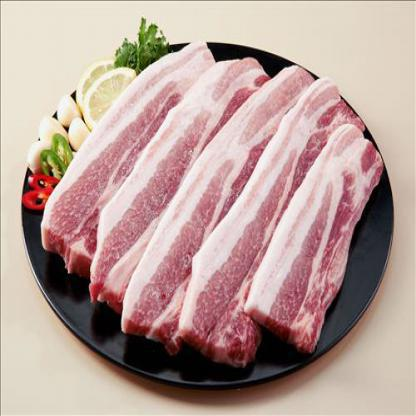pork: (82, 58, 378, 364)
